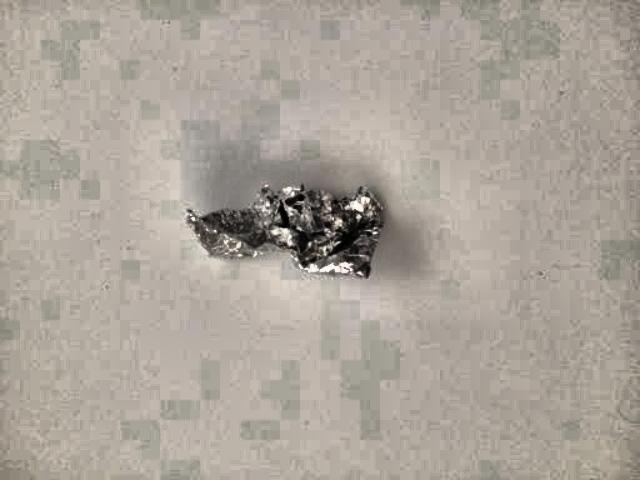Almennt: (167, 168, 401, 301)
